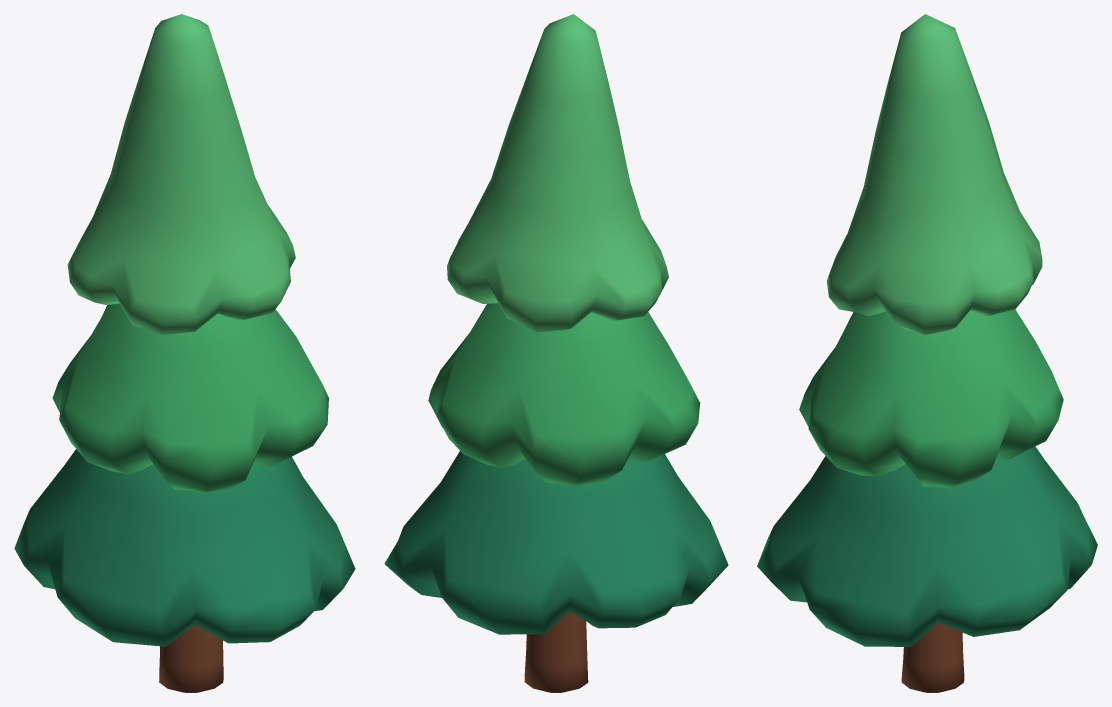
File: Conifer_02_LOD2.gltf
3 renders of one model, left to right at view 1: azimuth 30°, elevation 25°; view 2: azimuth 150°, elevation 25°; view 3: azimuth 270°, elevation 25°, orthographic.
Parts seen in each view (by area): view 1: Conifer_02_LOD2_Cylinder.611; view 2: Conifer_02_LOD2_Cylinder.611; view 3: Conifer_02_LOD2_Cylinder.611.
Part boxes in pixels (x1,y1,x2,y2): Conifer_02_LOD2_Cylinder.611: (14, 14, 355, 692); Conifer_02_LOD2_Cylinder.611: (384, 14, 728, 692); Conifer_02_LOD2_Cylinder.611: (757, 14, 1097, 692).
Bounding box in the file's own units: 5.16 × 11.78 × 5.48.
1 material, 1 textured.
